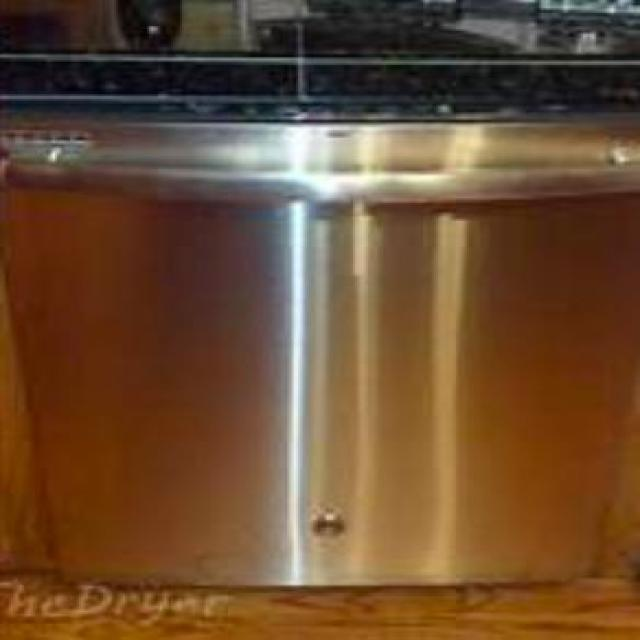dishwasher: (0, 107, 636, 583)
